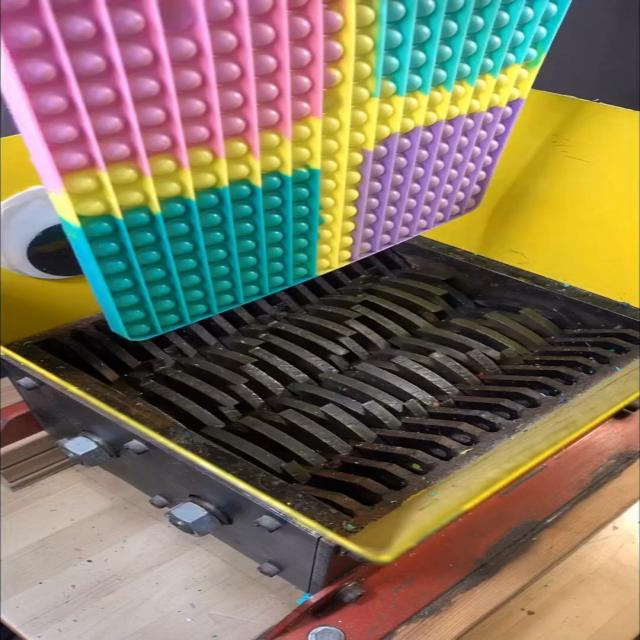Broyeur: (0, 220, 640, 561)
